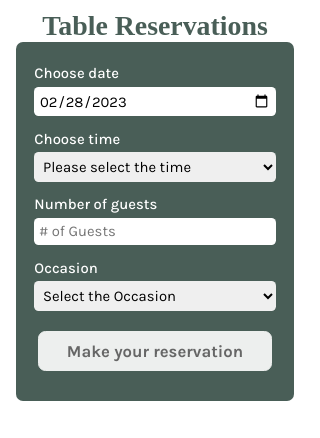
Scenario: BookingForm - Validate Inputs › displays error message for invalid occasion input
The image size is (320, 438).
Select "Select the Occasion" in the dropdown labelled "Occasion" at x=155, y=296, box [34,281,276,311]
Leave the dropdown labelled "Occasion", box [34,281,276,311]
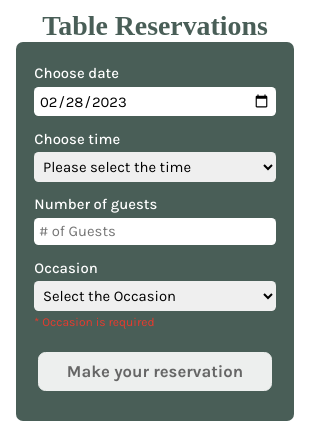
expect the text "* Occasion is required" is shown: met, box [34,315,154,329]
